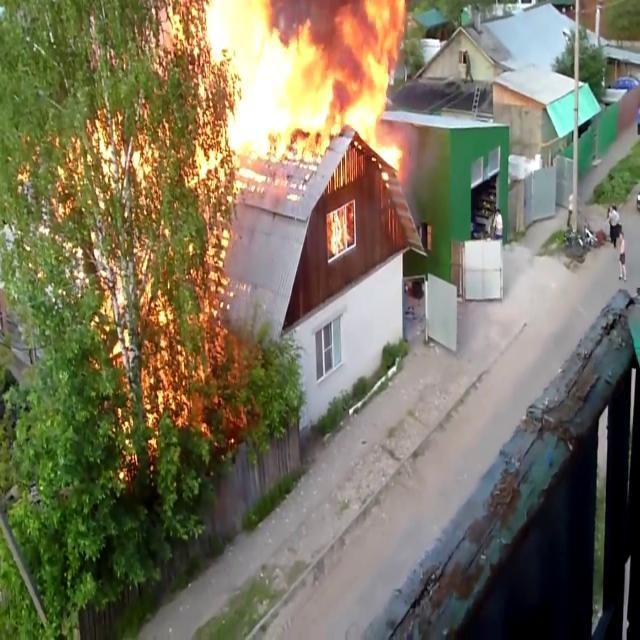Fire: (174, 1, 408, 190)
